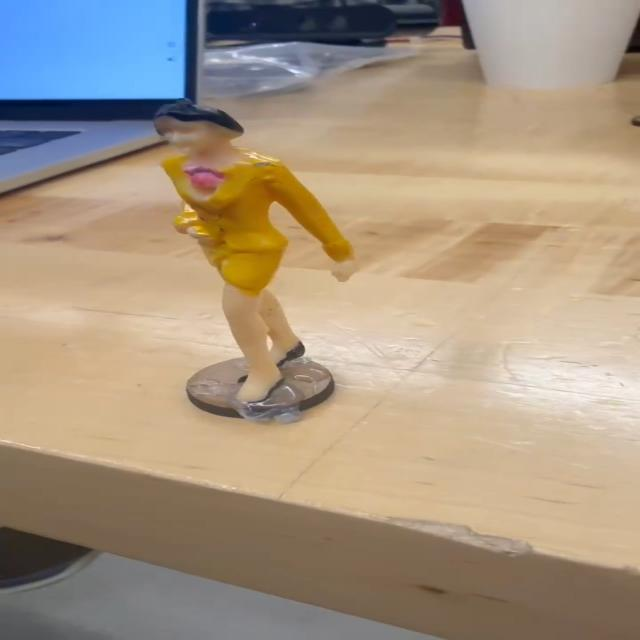Authorized: (136, 101, 364, 406)
